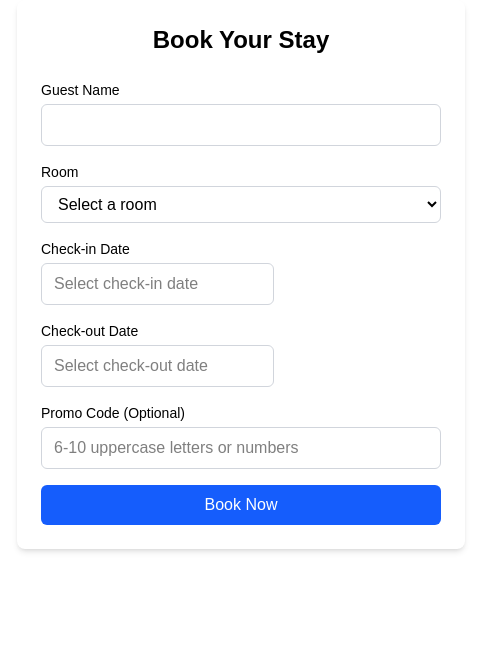
BookingForm Component › validates form and shows errors for required fields
Submit the form without filling in required fields
What coordinates should you click on to do the following:
click the button "Book Now"
I would click on:
 (241, 505)
Its box is [41, 485, 441, 525].
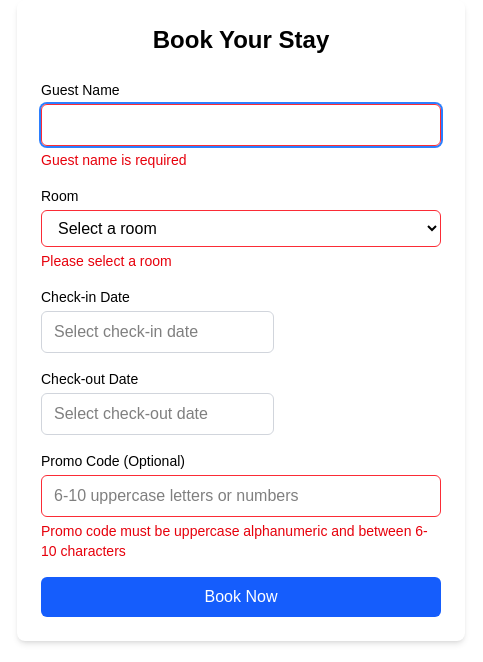
Expected: the text "Guest name is required" is shown, [41, 152, 186, 168]
Expected: the text "Please select a room" is shown, [41, 253, 172, 269]
